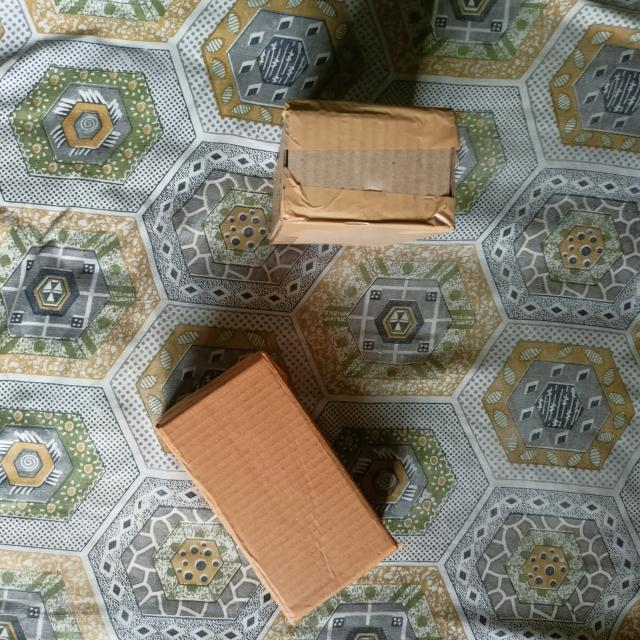box: (163, 361, 402, 624), (282, 109, 455, 225)
